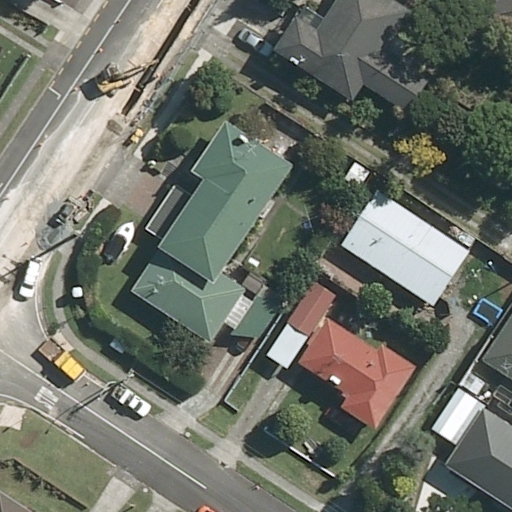DT: (120, 365, 139, 387)
